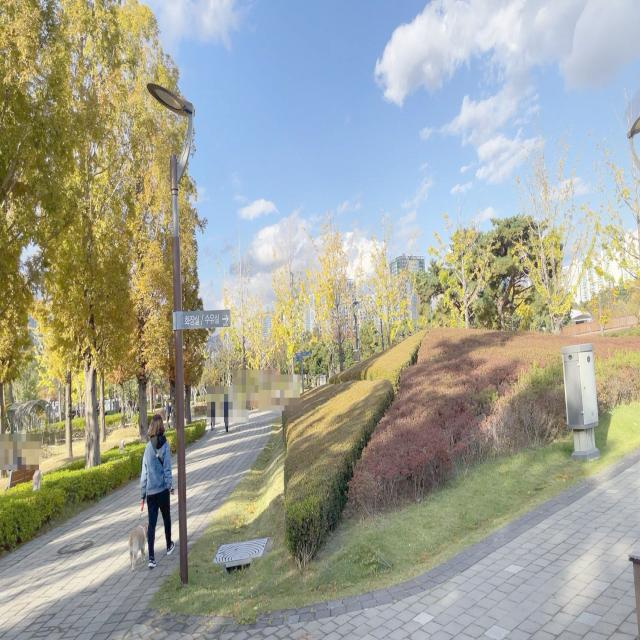Leashed_Dog: (128, 488, 157, 575)
